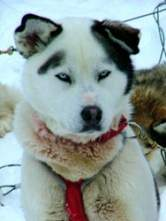dog: (11, 15, 159, 220)
